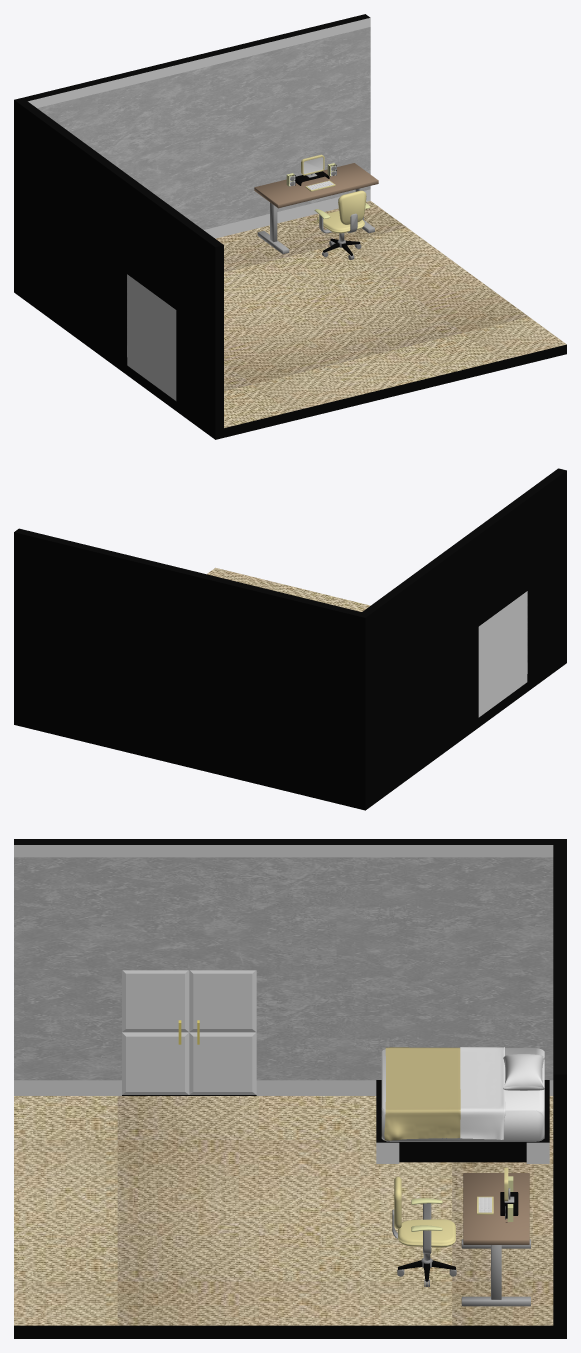
File: RoomBBB.glb
The picture shows the model from 3 angles, top to bottom: view 1: azimuth 30°, elevation 25°; view 2: azimuth 150°, elevation 25°; view 3: azimuth 270°, elevation 25°; orthographic projection. The views are drawn at different scales.
Parts seen in each view (by area): view 1: Cube.001, Plane, Cube.003, Cube.002, Plane.005; view 2: Cube.001, Cube.002, Cube.003; view 3: Cube.001, Duvet.001, Cube.002, Cube.003, Cube.004, Plane, Mattress.001, Pillow.001, Plane.001, Cube.
Part boxes in pixels (x1,y1,x2,y2): Cube.001: (14,14,566,439); Plane: (254,163,378,208); Cube.003: (127,274,151,382); Cube.002: (152,292,176,400); Plane.005: (338,190,366,224); Cube.001: (14,468,566,810); Cube.002: (503,591,527,699); Cube.003: (478,609,502,717); Cube.001: (14,839,566,1338); Duvet.001: (384,1047,505,1140); Cube.002: (122,970,189,1094); Cube.003: (189,970,256,1094); Cube.004: (376,1080,549,1163); Plane: (463,1173,529,1244); Mattress.001: (381,1048,544,1141); Pillow.001: (503,1054,544,1090); Plane.001: (398,1219,455,1247); Cube: (461,1239,530,1306).
Size of the model in its own units: 4.02 by 2.1 by 3.99.
Materials: 20 (2 with a texture image).
